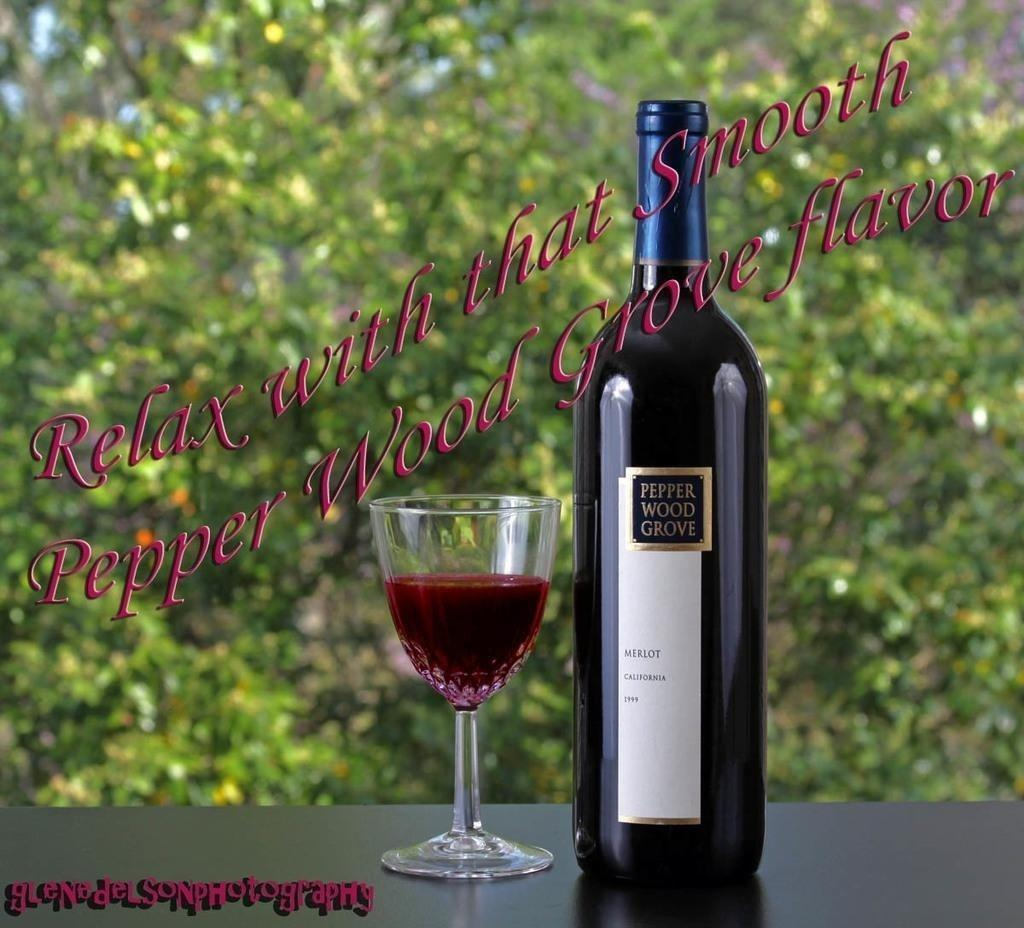bottle-glass: (561, 93, 789, 884)
glass-wine: (365, 489, 565, 887)
